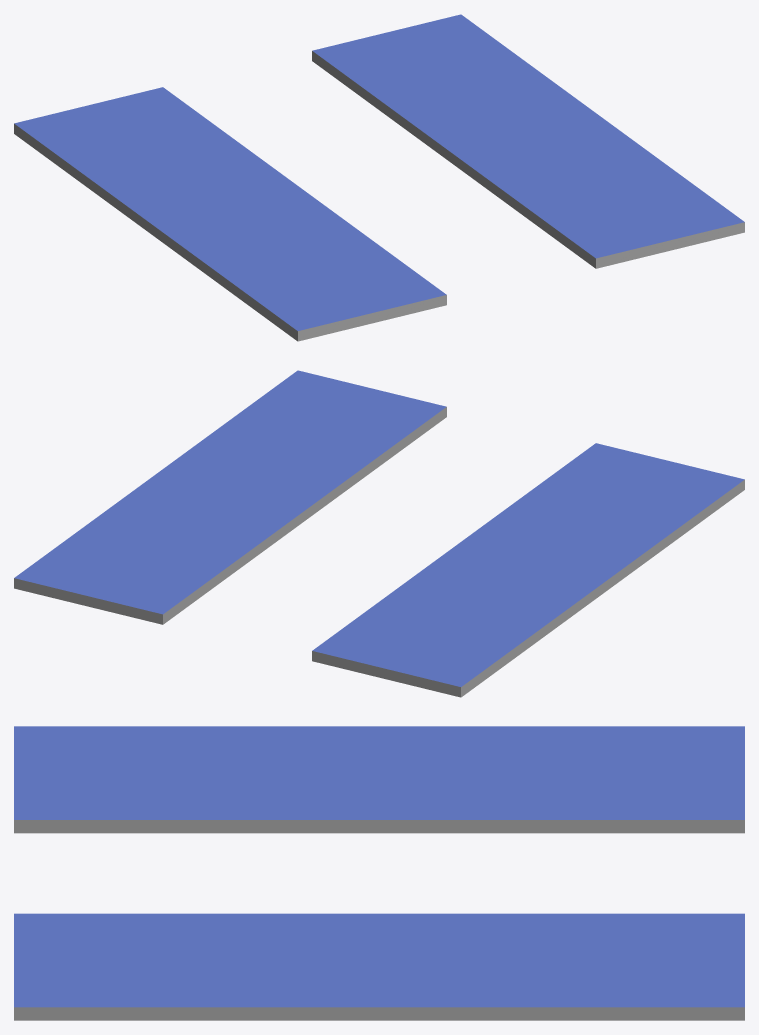
The model's file is satellite-wing.glb.
The picture shows the model from 3 angles, top to bottom: view 1: azimuth 30°, elevation 25°; view 2: azimuth 150°, elevation 25°; view 3: azimuth 270°, elevation 25°; orthographic projection. The views are drawn at different scales.
Parts seen in each view (by area): view 1: SatWing1.001, SatWing2; view 2: SatWing1.001, SatWing2; view 3: SatWing1.001, SatWing2.
Boxes of the visible parts, x1=… form: SatWing1.001: x1=312, y1=14, x2=744, y2=268; SatWing2: x1=14, y1=87, x2=446, y2=341; SatWing1.001: x1=14, y1=370, x2=446, y2=624; SatWing2: x1=312, y1=443, x2=744, y2=697; SatWing1.001: x1=14, y1=913, x2=744, y2=1020; SatWing2: x1=14, y1=726, x2=744, y2=833.
Size of the model in its own units: 0.09 by 0.002 by 0.099.
